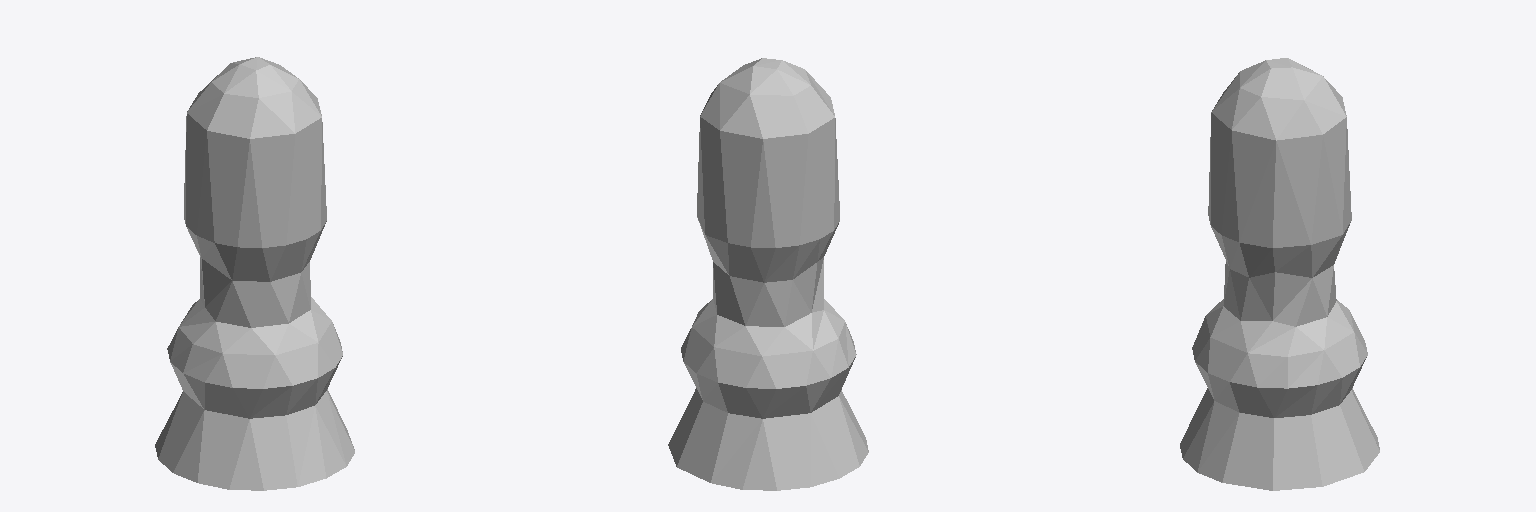
File: light_3.obj
3 renders of one model, left to right at view 1: azimuth 30°, elevation 25°; view 2: azimuth 150°, elevation 25°; view 3: azimuth 270°, elevation 25°, orthographic.
Parts seen in each view (by area): view 1: Cylinder001.002_Untitled.005; view 2: Cylinder001.002_Untitled.005; view 3: Cylinder001.002_Untitled.005.
Part boxes in pixels (x1,y1,x2,y2): Cylinder001.002_Untitled.005: (155,57,354,490); Cylinder001.002_Untitled.005: (668,58,868,490); Cylinder001.002_Untitled.005: (1180,58,1379,490).
Size of the model in its own units: 0.2357 by 0.4952 by 0.2339.